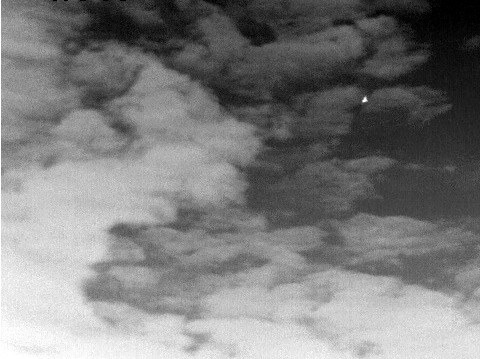dim target: (361, 95, 369, 104)
